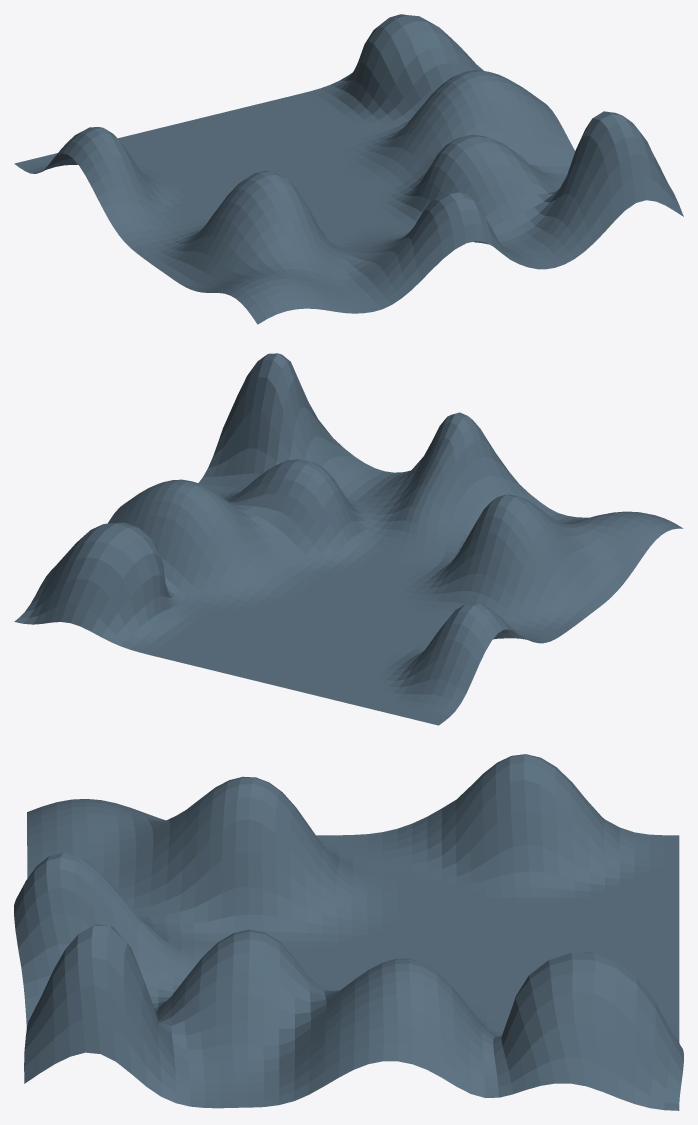
3 renders of one model, top to bottom at view 1: azimuth 30°, elevation 25°; view 2: azimuth 150°, elevation 25°; view 3: azimuth 270°, elevation 25°, orthographic. The views are drawn at different scales.
Visible parts, largest first — view 1: Plane; view 2: Plane; view 3: Plane.
Boxes of the visible parts, x1,y1,x2,y2 form: Plane: [14, 14, 683, 324]; Plane: [14, 353, 683, 725]; Plane: [14, 754, 683, 1110].
Size of the model in its own units: 203 by 53.12 by 205.
